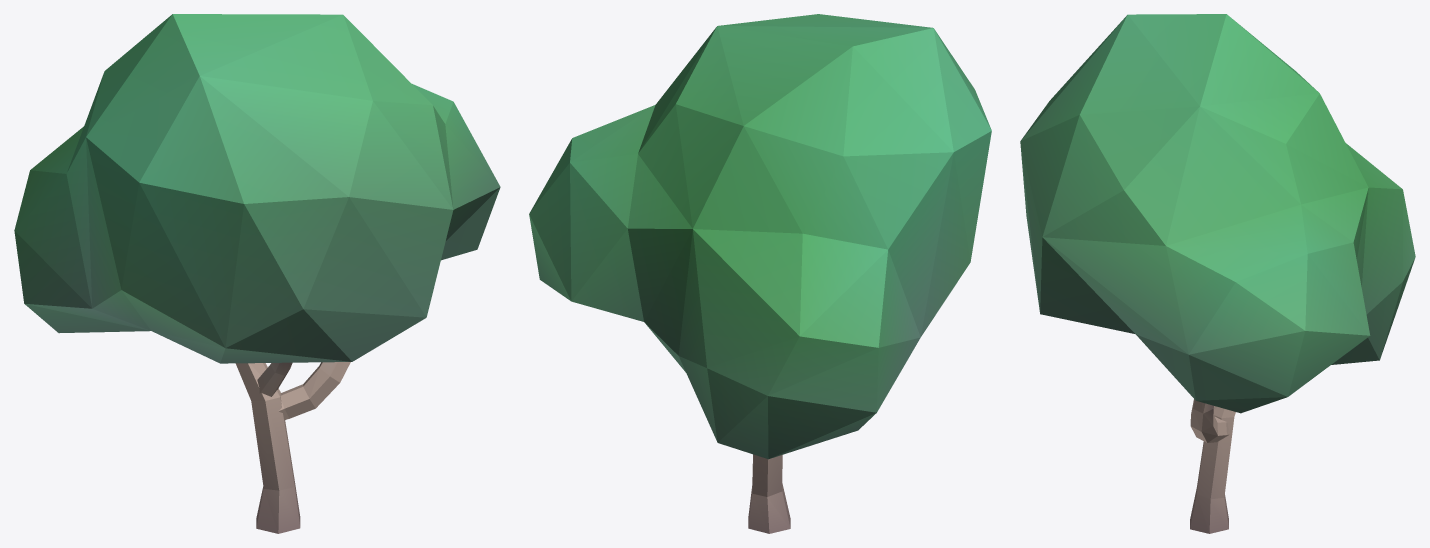
Rendered from tree_round.glb.
The picture shows the model from 3 angles, left to right: view 1: azimuth 30°, elevation 25°; view 2: azimuth 150°, elevation 25°; view 3: azimuth 270°, elevation 25°; orthographic projection. The views are drawn at different scales.
Parts seen in each view (by area): view 1: tree_round_02; view 2: tree_round_02; view 3: tree_round_02.
Boxes of the visible parts, x1,y1,x2,y2 form: tree_round_02: (14, 14, 500, 533); tree_round_02: (529, 14, 991, 533); tree_round_02: (1020, 14, 1415, 533).
Size of the model in its own units: 0.7904 by 0.987 by 0.7541.
